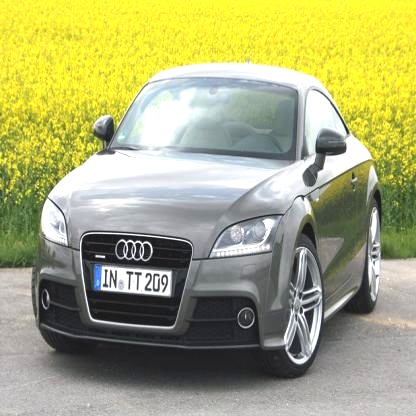Vehicle: (31, 59, 386, 381)
